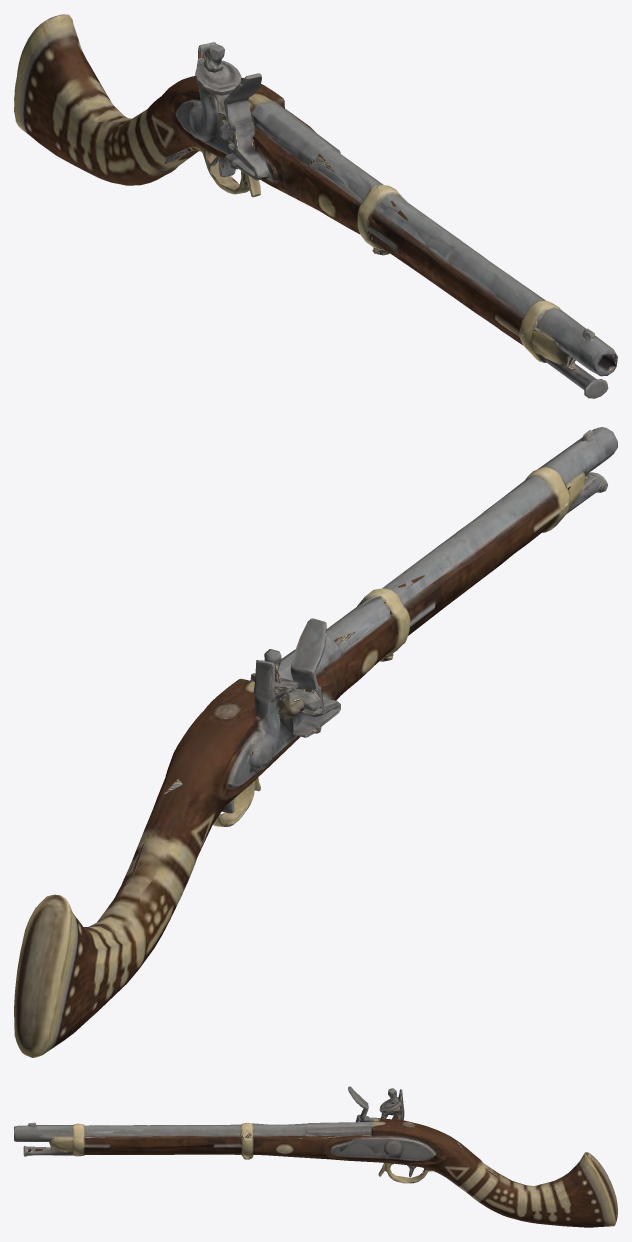
Rendered from flintlock_pistol.glb.
3 views of the same model, one above another, from view 1: azimuth 30°, elevation 25°; view 2: azimuth 150°, elevation 25°; view 3: azimuth 270°, elevation 25° (orthographic). The views are drawn at different scales.
Parts seen in each view (by area): view 1: mesh_node, mesh_node_lod; view 2: mesh_node, mesh_node_lod; view 3: mesh_node, mesh_node_lod.
Boxes of the visible parts, x1,y1,x2,y2 form: mesh_node: (14, 14, 617, 398); mesh_node_lod: (14, 16, 617, 389); mesh_node: (14, 427, 617, 1057); mesh_node_lod: (14, 429, 613, 1052); mesh_node: (14, 1086, 617, 1227); mesh_node_lod: (14, 1088, 612, 1226).
Bounding box in the file's own units: 0.0459 × 0.1345 × 0.56.
1 material, 1 textured.
